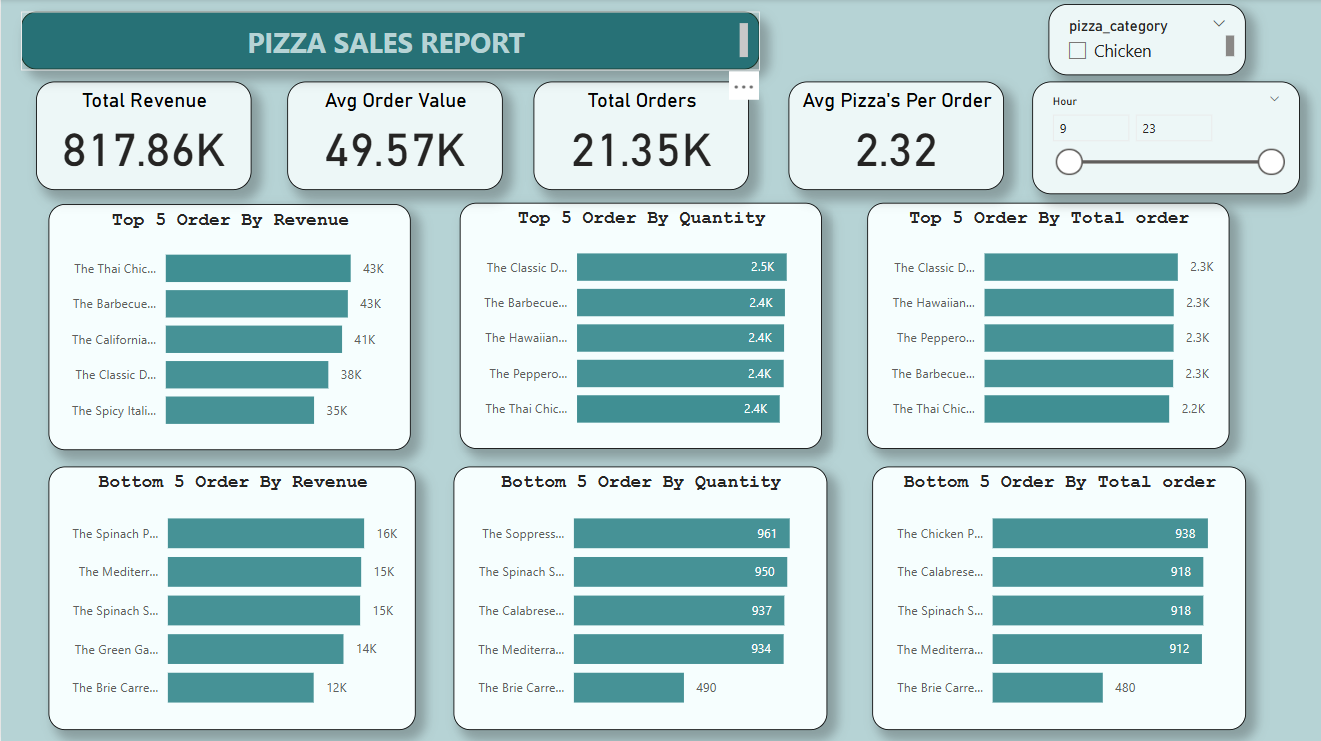

Layout of this report page (visuals, bound fields, positions):
{"tool":"powerbi","page":{"name":"Page 2","canvas":[1280,720],"ordinal":1},"visuals":[{"type":"clusteredBarChart","title":"Top 5 Order By Revenue","fields":{"Category":["pizza_sales.pizza_name"],"Y":["pizza_sales.Total_revenue"]},"box":[45.8,197.9,349.9,237.7],"z":0},{"type":"clusteredBarChart","title":"Top 5 Order By Quantity","fields":{"Y":["Sum(pizza_sales.quantity)"],"Category":["pizza_sales.pizza_name"]},"box":[442.8,196.6,349.9,237.7],"z":1000},{"type":"clusteredBarChart","title":"Top 5 Order By Total order","fields":{"Category":["pizza_sales.pizza_name"],"Y":["Count(pizza_sales.order_id)"]},"box":[836.1,196.6,349.9,237.7],"z":2000},{"type":"clusteredBarChart","title":"Bottom 5 Order By Revenue","fields":{"Y":["pizza_sales.Total_revenue"],"Category":["pizza_sales.pizza_name"]},"box":[45.8,451.2,354.7,254.6],"z":3000},{"type":"clusteredBarChart","title":"Bottom 5 Order By Total order","fields":{"Category":["pizza_sales.pizza_name"],"Y":["Count(pizza_sales.order_id)"]},"box":[840.9,451.2,360.7,254.6],"z":4000},{"type":"clusteredBarChart","title":"Bottom 5 Order By Quantity","fields":{"Y":["Sum(pizza_sales.quantity)"],"Category":["pizza_sales.pizza_name"]},"box":[436.7,451.2,360.7,254.6],"z":5000},{"type":"slicer","fields":{"Values":["pizza_sales.pizza_category"]},"box":[1011,4.8,190.6,68.8],"z":5001},{"type":"card","title":"Total Revenue","fields":{"Values":["pizza_sales.Total_revenue"]},"box":[34.2,79.5,207.9,105.2],"z":5002},{"type":"card","title":"Total Orders","fields":{"Values":["pizza_sales.Total_orders"]},"box":[513.6,79.5,207.9,105.2],"z":5003},{"type":"card","title":"Avg Order Value","fields":{"Values":["pizza_sales.Total_pizza_sold"]},"box":[276.4,79.5,207.9,105.2],"z":5004},{"type":"card","title":"Avg Pizza''s Per Order","fields":{"Values":["pizza_sales.avg_Pizza_perorder"]},"box":[760.6,79.5,207.9,105.2],"z":5005},{"type":"textbox","box":[19.6,12.2,712.9,56.3],"z":5006},{"type":"slicer","fields":{"Values":["pizza_sales.Hour"]},"box":[995.3,79.6,258.2,108.6],"z":5007}]}

Visuals, with their boxes in screenshot pixels (x1, y1, x2, y2), scaled from the page's 1280x720 canvas onto the 1321x741 screenshot:
"Top 5 Order By Revenue" clusteredBarChart: crop(47, 204, 408, 448)
"Top 5 Order By Quantity" clusteredBarChart: crop(457, 202, 818, 447)
"Top 5 Order By Total order" clusteredBarChart: crop(863, 202, 1224, 447)
"Bottom 5 Order By Revenue" clusteredBarChart: crop(47, 464, 413, 726)
"Bottom 5 Order By Total order" clusteredBarChart: crop(868, 464, 1240, 726)
"Bottom 5 Order By Quantity" clusteredBarChart: crop(451, 464, 823, 726)
slicer - pizza_sales.pizza_category: crop(1043, 5, 1240, 76)
"Total Revenue" card: crop(35, 82, 250, 190)
"Total Orders" card: crop(530, 82, 745, 190)
"Avg Order Value" card: crop(285, 82, 500, 190)
"Avg Pizza''s Per Order" card: crop(785, 82, 1000, 190)
textbox: crop(20, 13, 756, 70)
slicer - pizza_sales.Hour: crop(1027, 82, 1294, 194)
